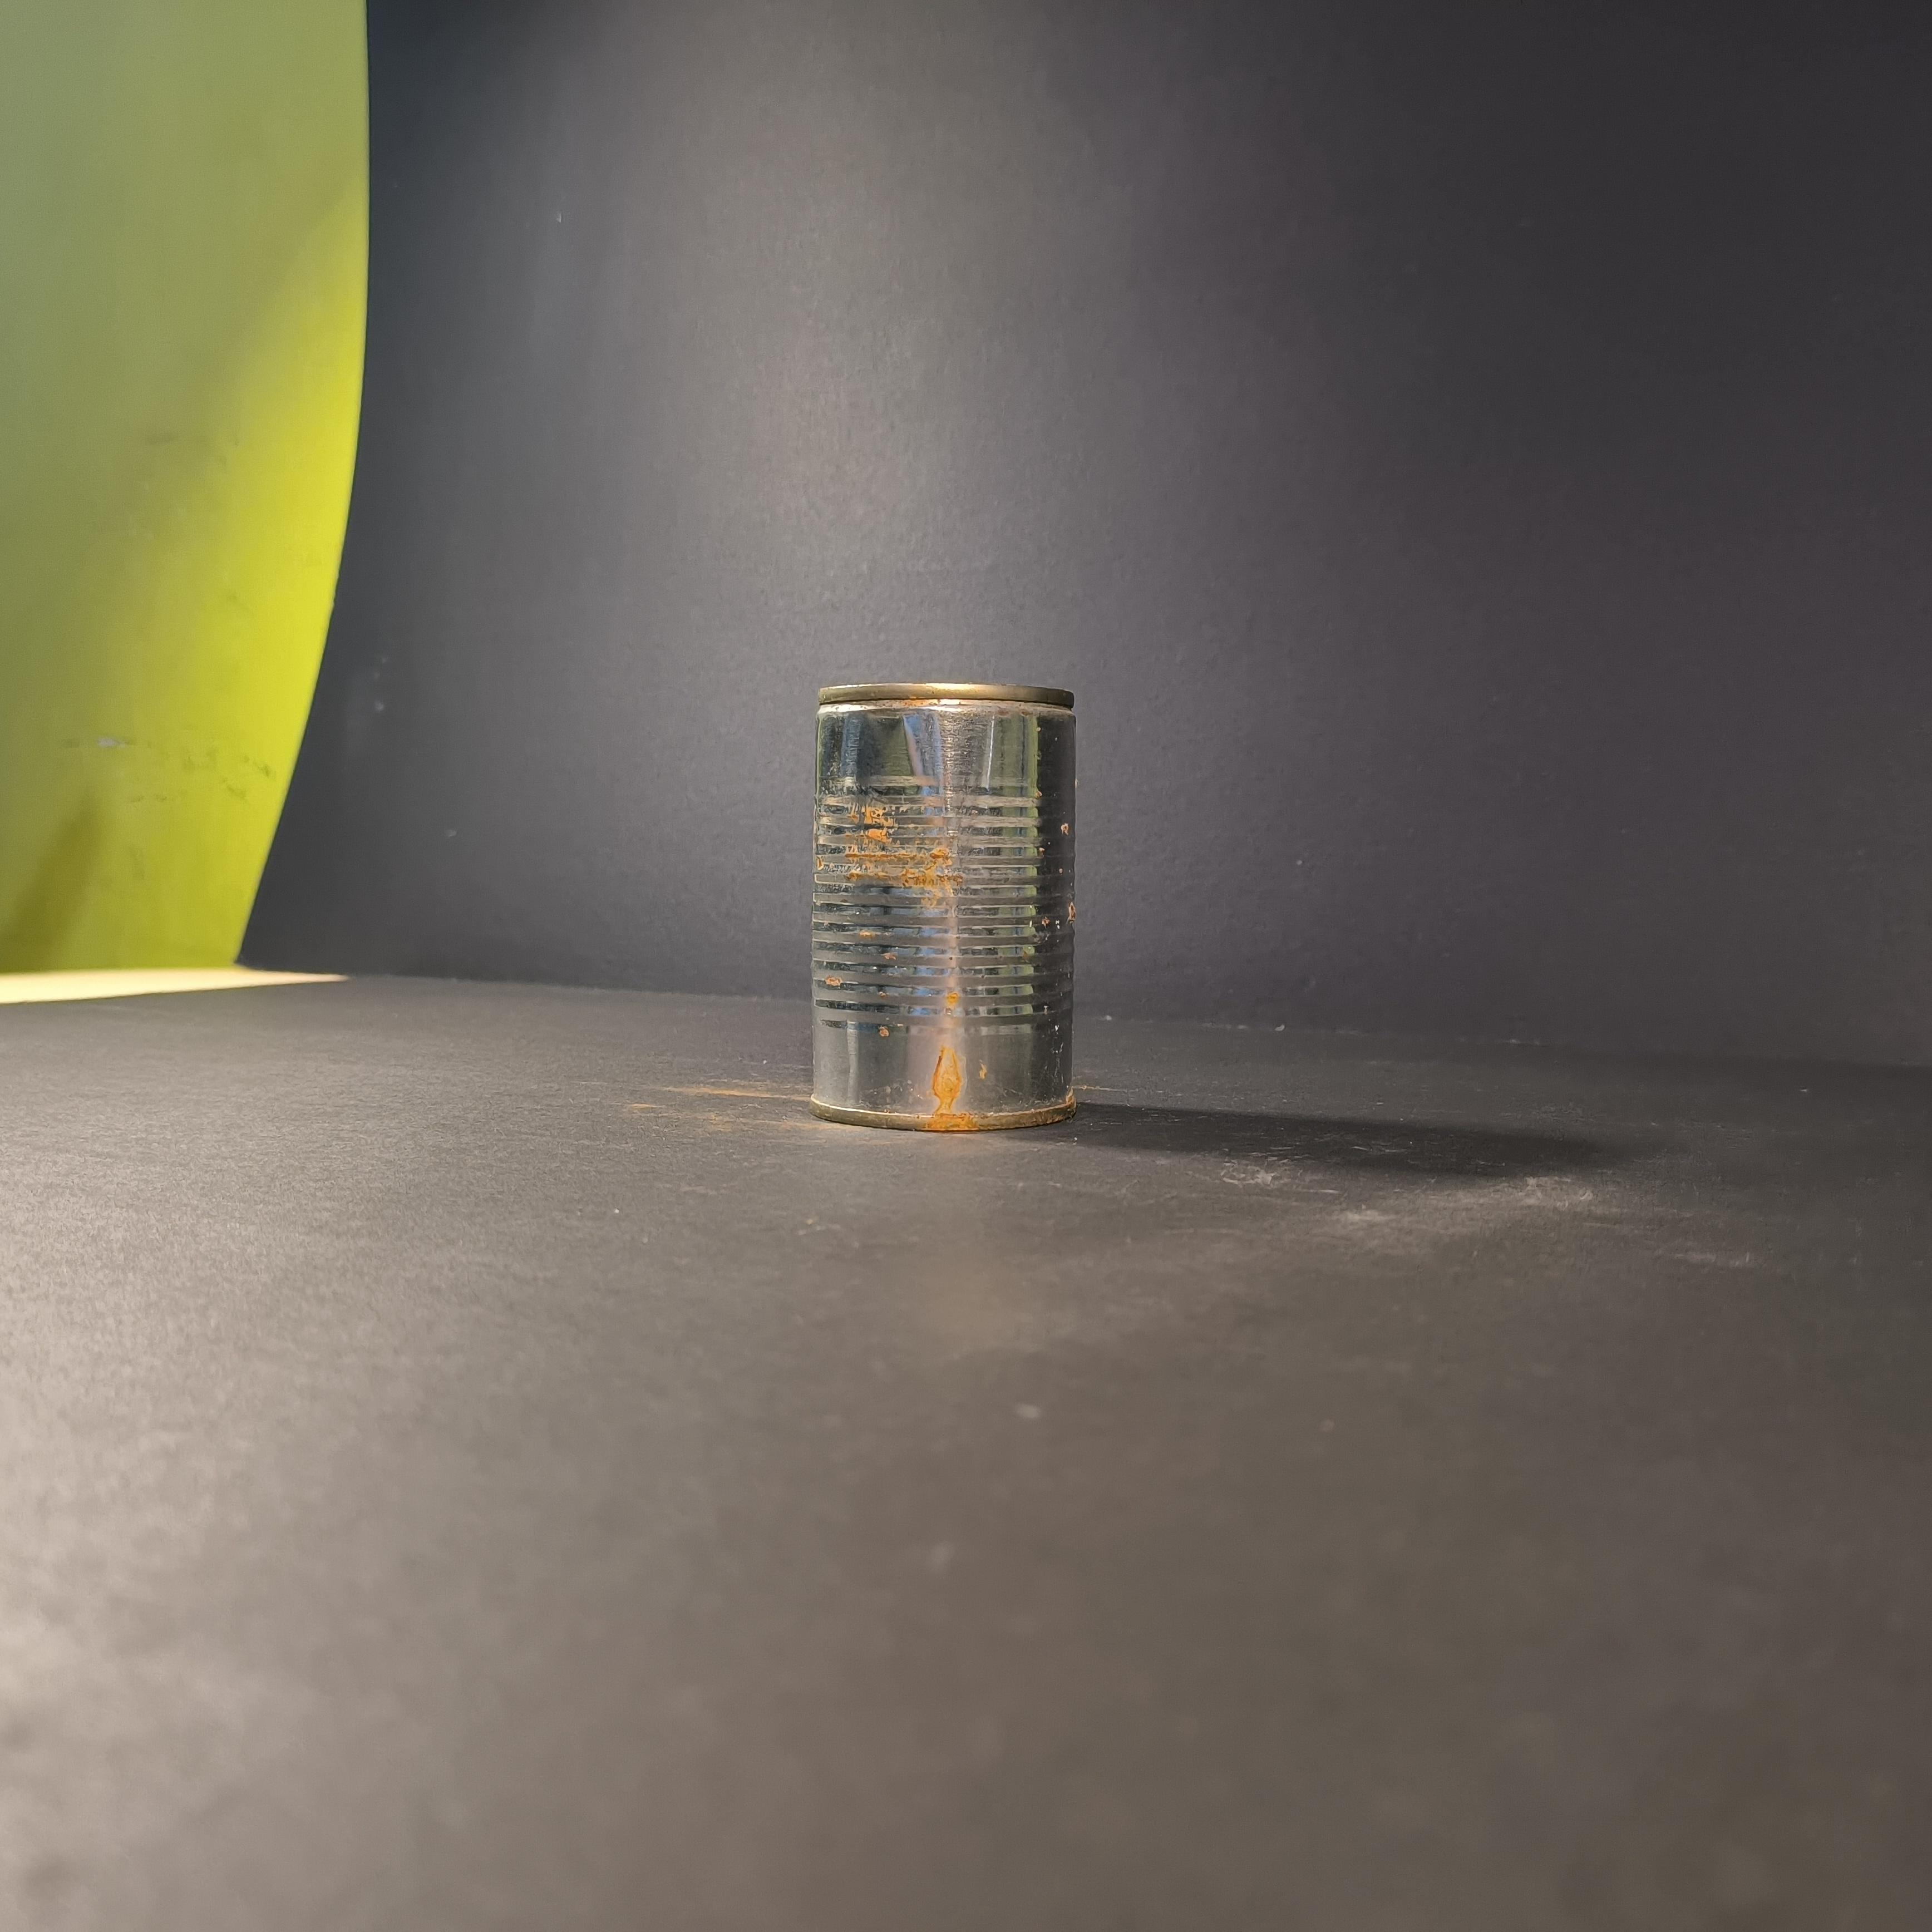Major Defect: (809, 681, 1077, 1132)
